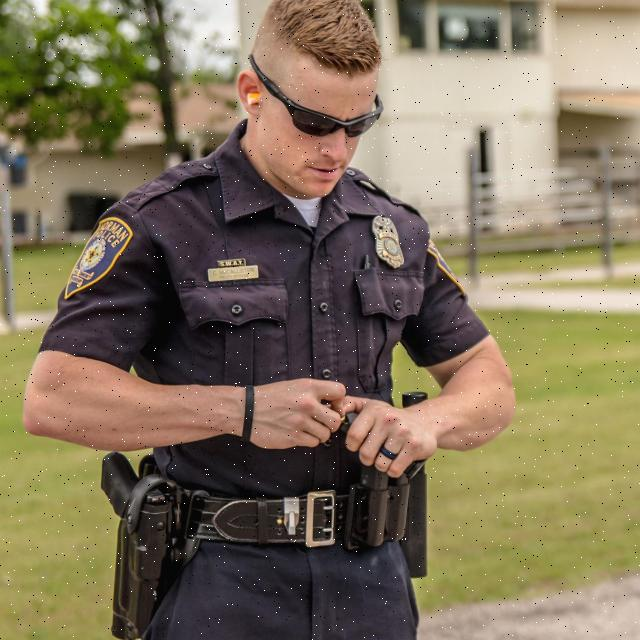police: (0, 0, 537, 640)
